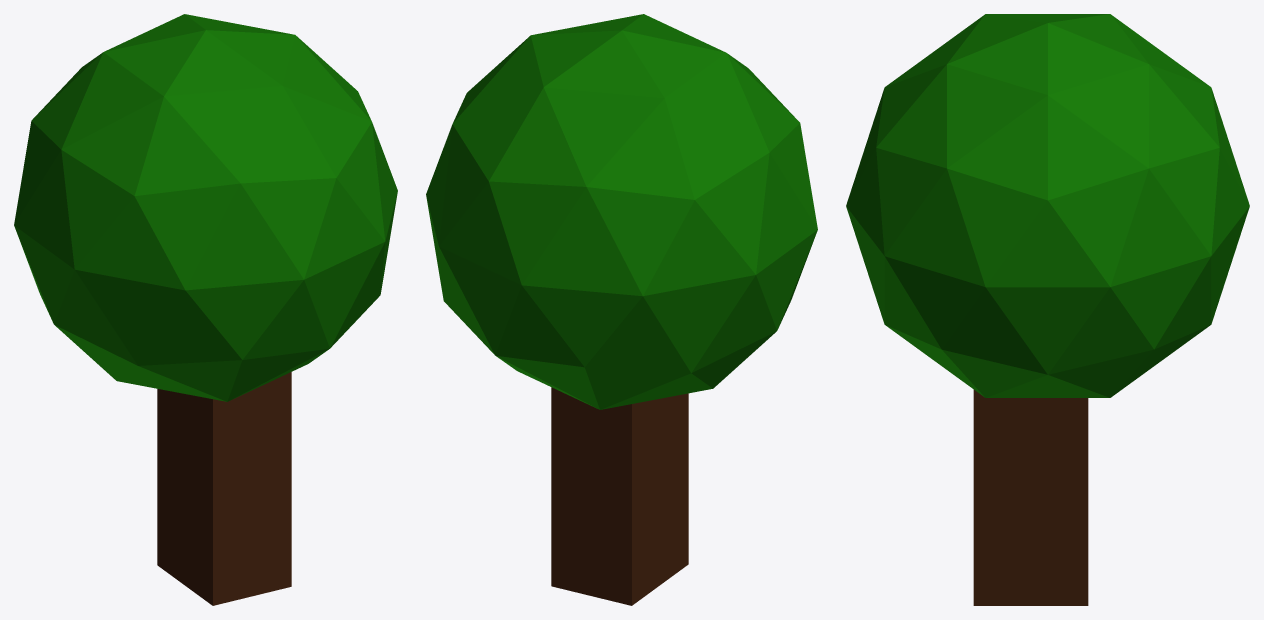
File: sekai.fbx
3 views of the same model, side by side, from view 1: azimuth 30°, elevation 25°; view 2: azimuth 150°, elevation 25°; view 3: azimuth 270°, elevation 25° (orthographic). The views are drawn at different scales.
Visible parts, largest first — view 1: Icosphere, Cube; view 2: Icosphere, Cube; view 3: Icosphere, Cube.
Boxes of the visible parts, left/top/right/bottom form: Icosphere: left=14, top=14, right=397, bottom=401; Cube: left=157, top=372, right=291, bottom=605; Icosphere: left=426, top=14, right=817, bottom=409; Cube: left=551, top=387, right=688, bottom=605; Icosphere: left=846, top=14, right=1249, bottom=397; Cube: left=973, top=390, right=1088, bottom=605.
Size of what is drawn, in the model's own units: 123 by 197 by 130.
